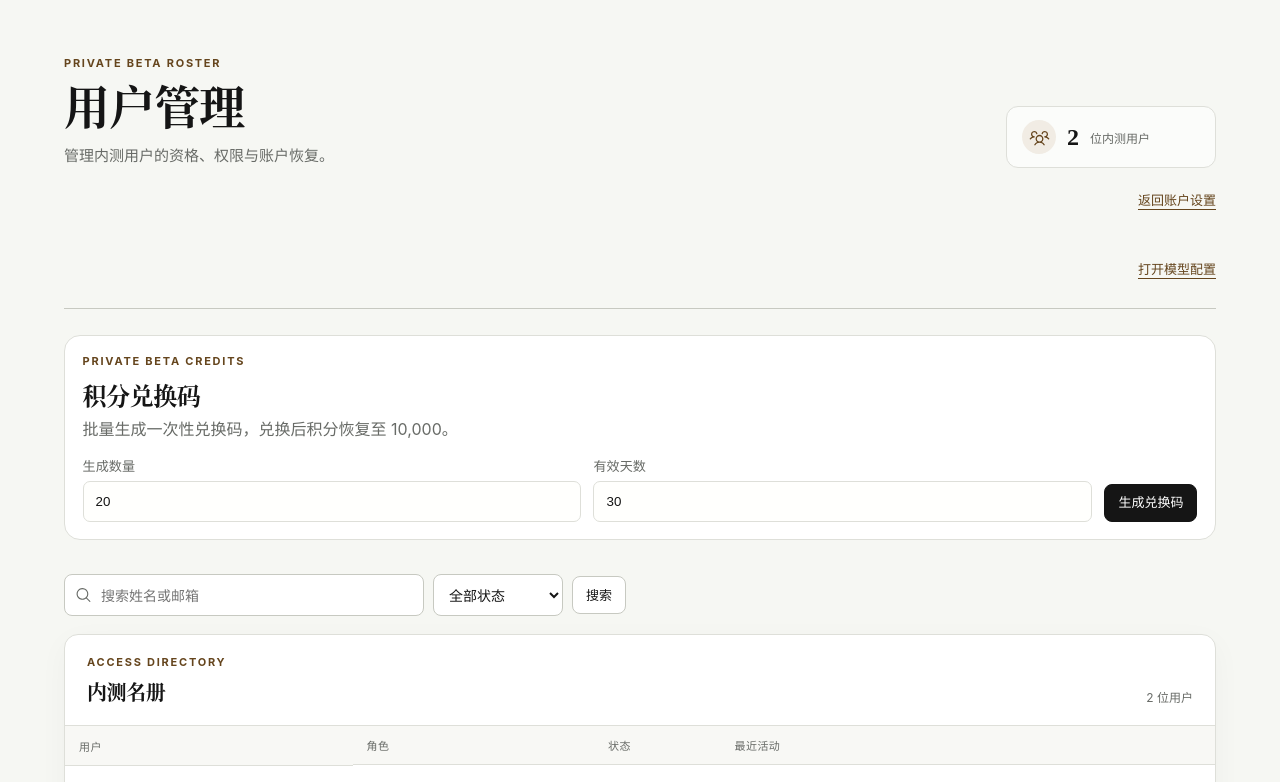
Test: AdminUsersPage › searches through the server boundary and renders only the returned member
Type "member" into the search field named "搜索用户" at (244, 595), box left=64, top=574, right=424, bottom=616
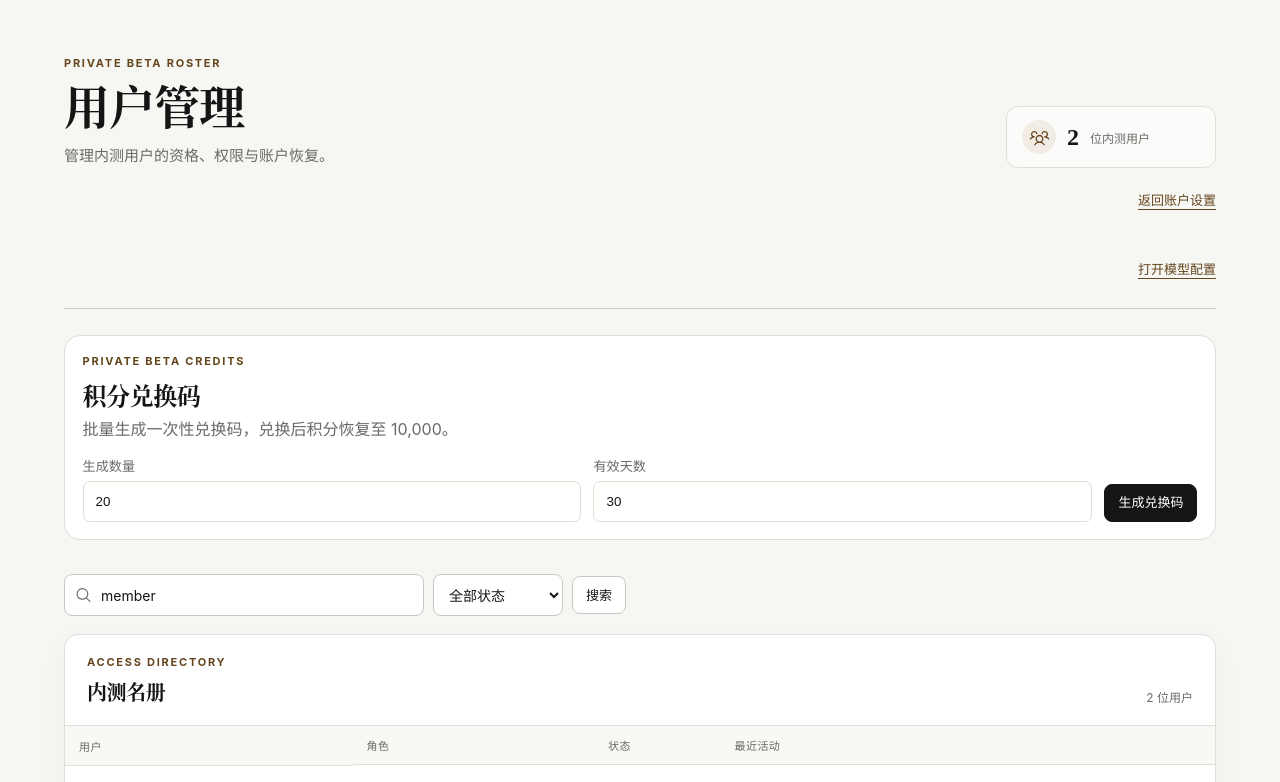
Click the button "搜索" at (599, 595), box left=572, top=576, right=626, bottom=614
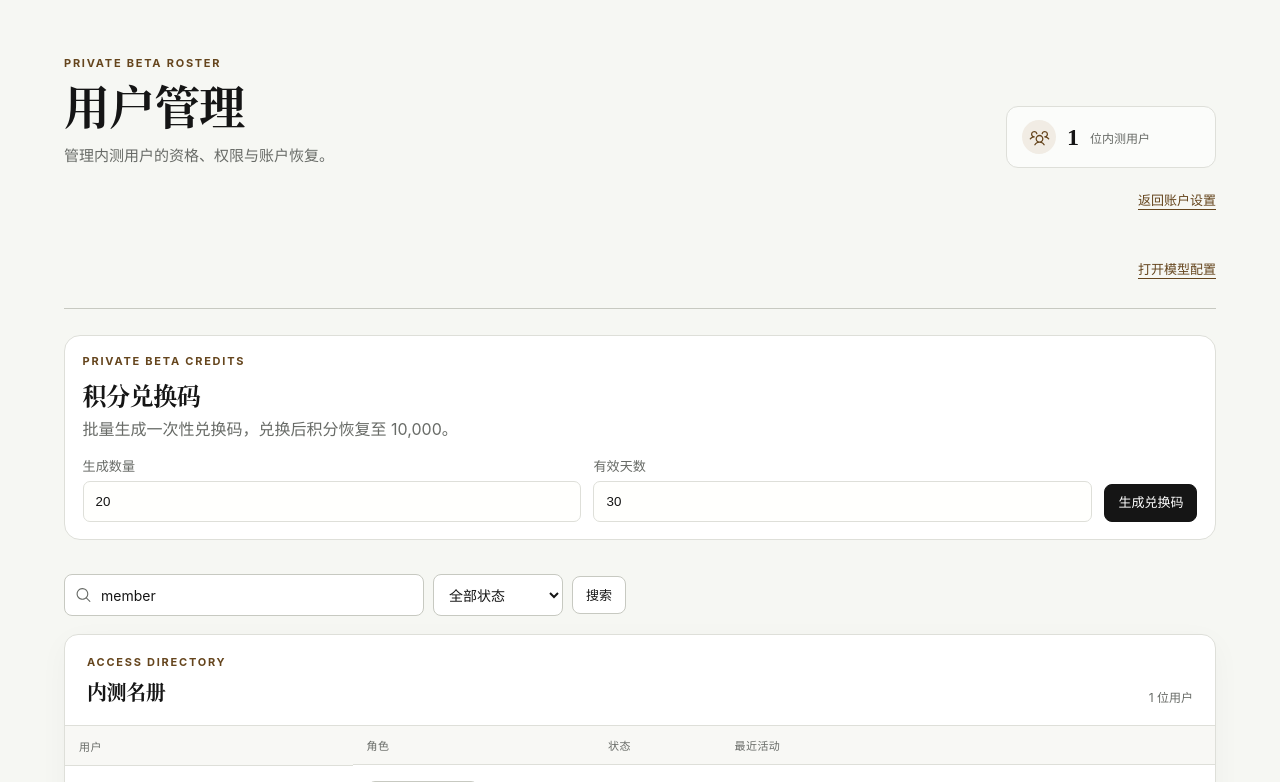
Check: the text "1 位用户" is shown, box left=1149, top=688, right=1193, bottom=705
